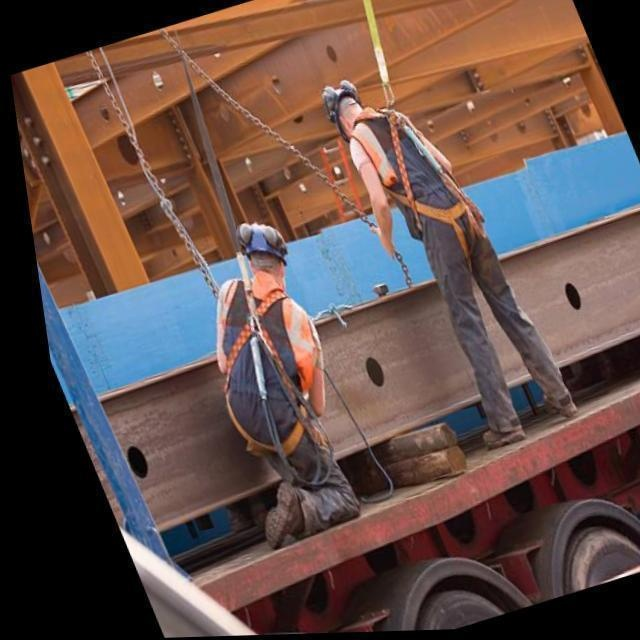Arnes_seguridad: (203, 276, 324, 460), (345, 107, 481, 253)
